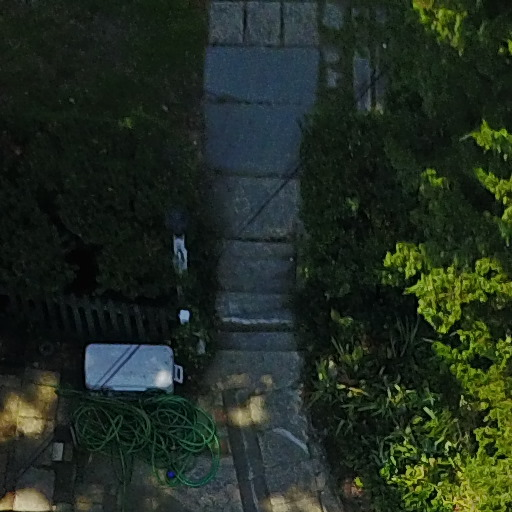container: (69, 337, 200, 418)
